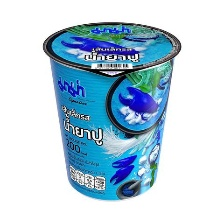paper_cup: (37, 17, 185, 205)
